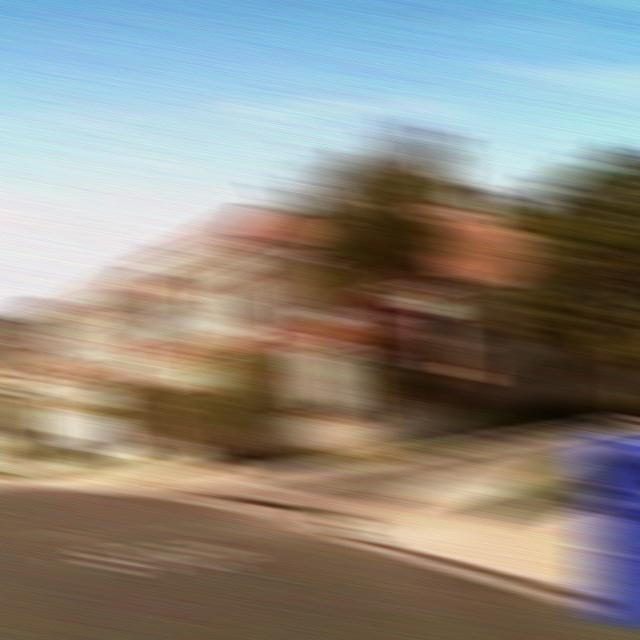stop_sign: (346, 291, 411, 354)
